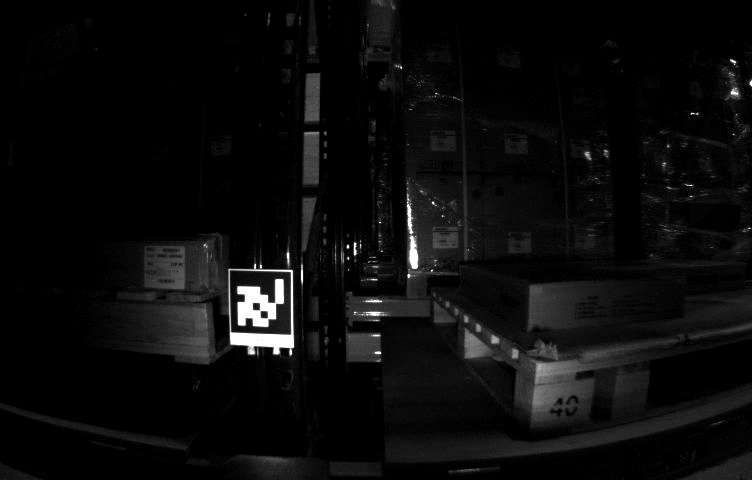True Barcode: (143, 244, 185, 287)
